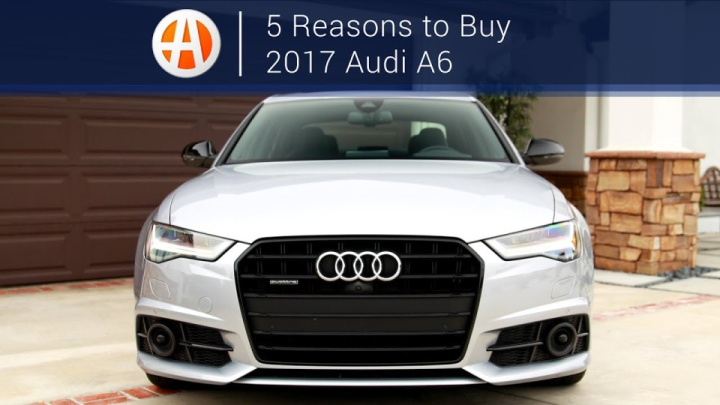audi: (311, 245, 408, 291)
